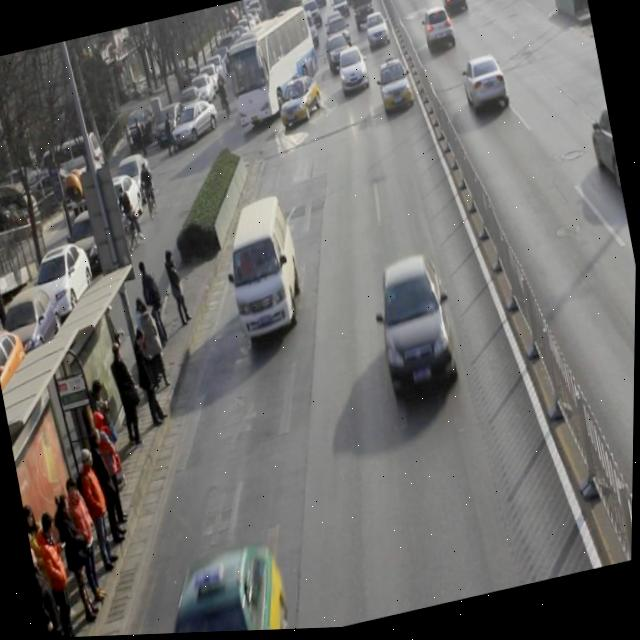car: (147, 537, 298, 636), (371, 252, 464, 402), (583, 105, 624, 200), (460, 56, 513, 124), (275, 75, 327, 131), (374, 57, 417, 121), (420, 6, 459, 61), (335, 45, 372, 98), (323, 35, 356, 79), (362, 11, 393, 54), (439, 0, 469, 24)
truck: (216, 193, 312, 346)
van: (221, 9, 327, 130)
